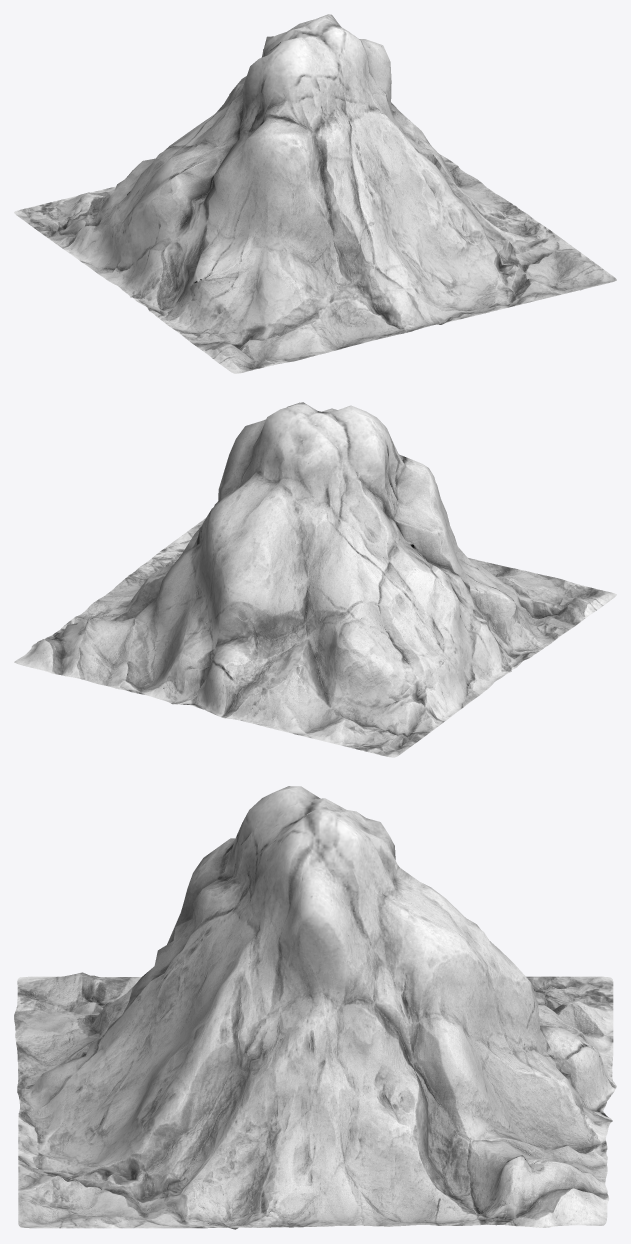
File: BigRock-1.fbx
The picture shows the model from 3 angles, top to bottom: view 1: azimuth 30°, elevation 25°; view 2: azimuth 150°, elevation 25°; view 3: azimuth 270°, elevation 25°; orthographic projection. The views are drawn at different scales.
Visible parts, largest first — view 1: Plane.001; view 2: Plane.001; view 3: Plane.001.
Part boxes in pixels (box(x1,y1,x2,y2)): Plane.001: box(14, 14, 616, 373); Plane.001: box(14, 402, 616, 757); Plane.001: box(14, 786, 616, 1229).
Size of the model in its own units: 1577 by 915 by 1597.
